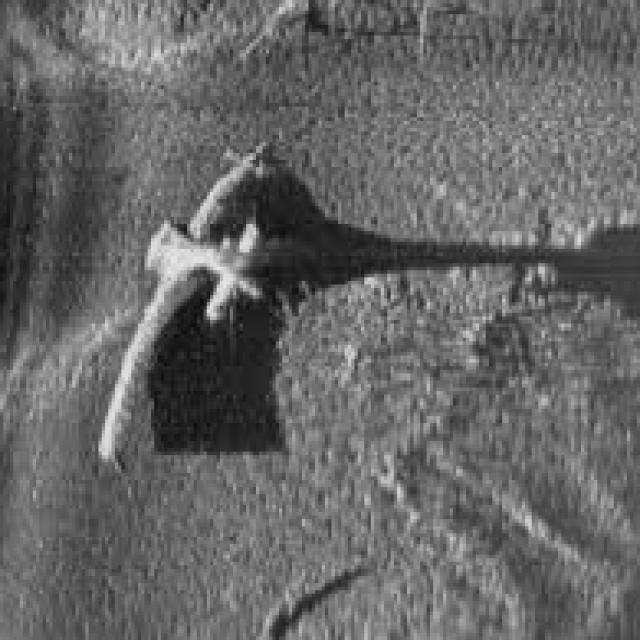plane: (85, 131, 397, 473)
